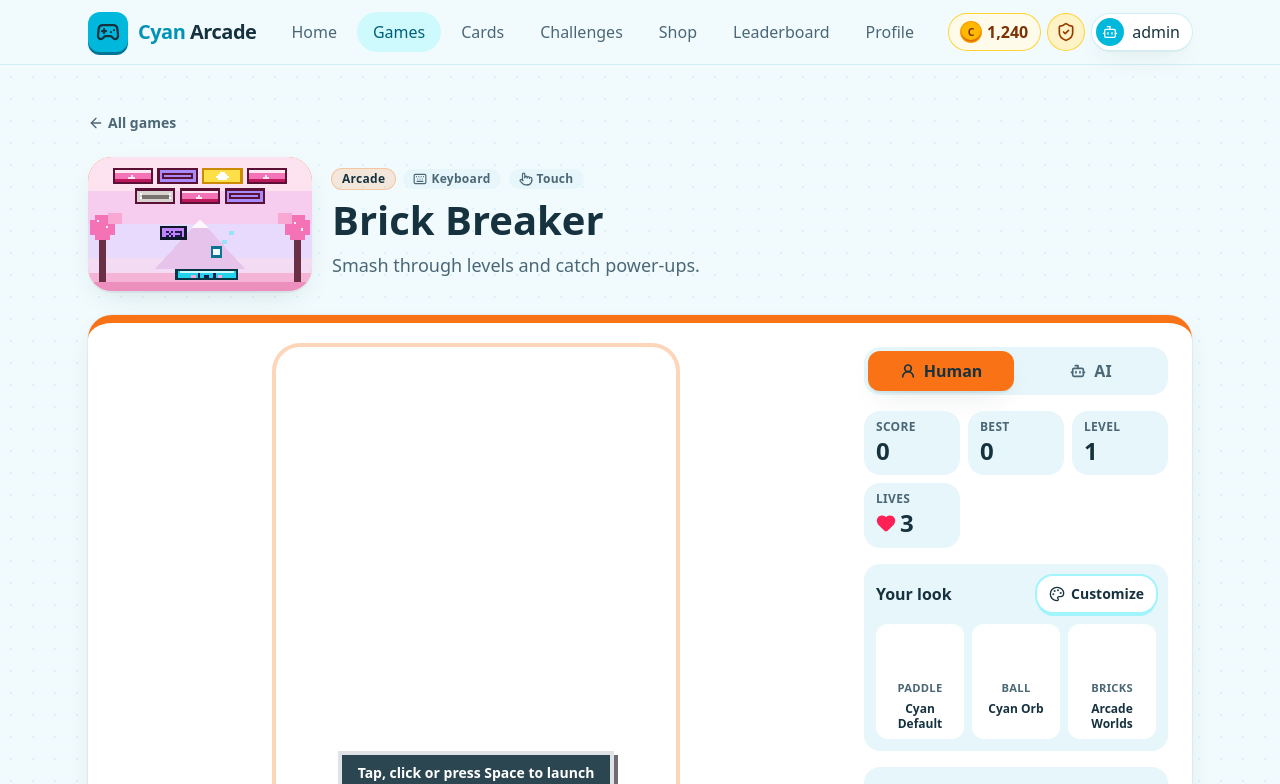
Scenario: Brick Breaker in the arcade › offers AI mode to an admin, after the server allows it, and never to a player
Click the button "AI" at [1091, 371], box [1018, 351, 1164, 391]
(page scrolled)
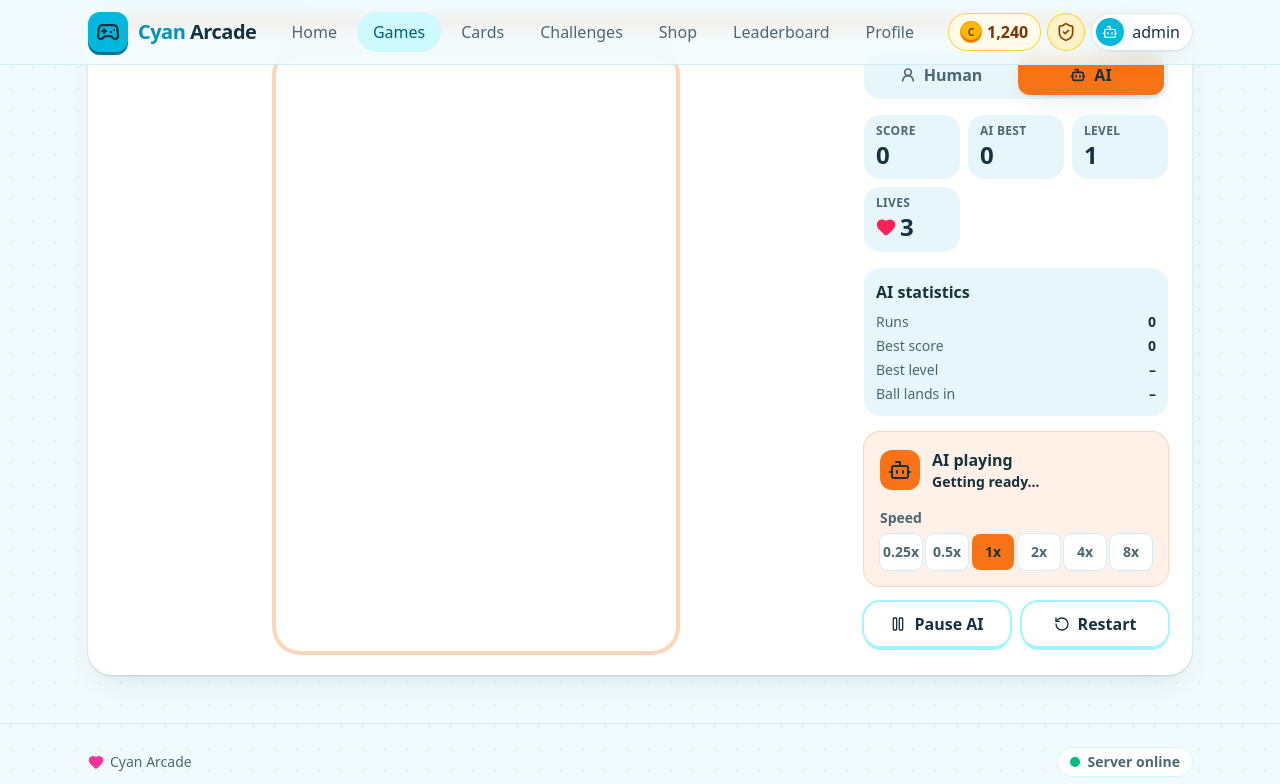
Result: the element named "AI mode" is shown at [864, 432, 1168, 586]
